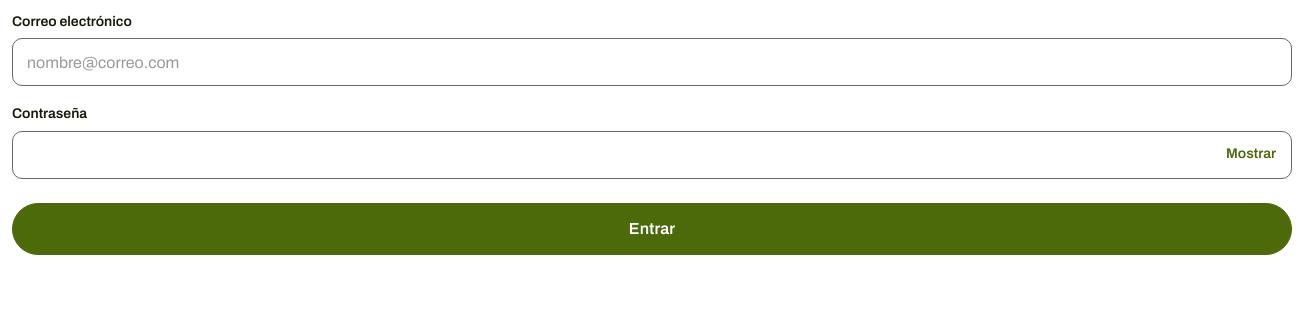
Scenario: LoginForm: errors are announced every time › shows the message its action returns
The image size is (1304, 336).
Type "ana@example.test" into the field labelled "Correo electrónico" at (652, 62), box x1=12 y1=38 x2=1292 y2=86
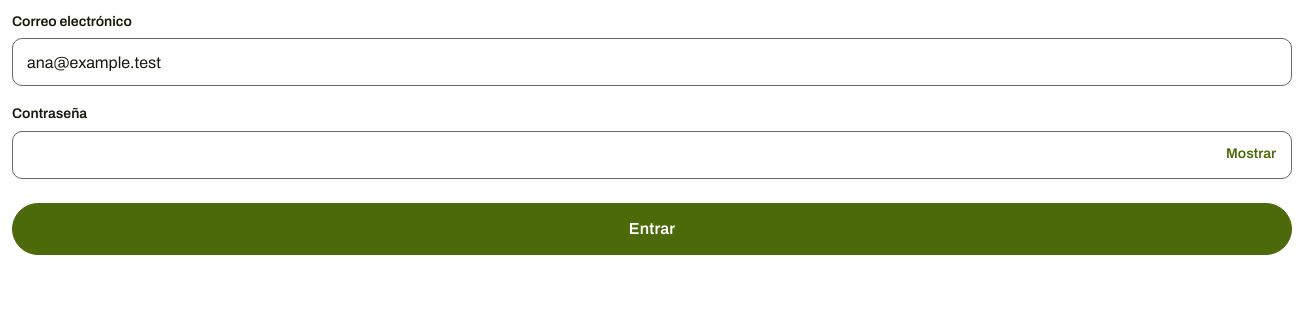
Type "a-long-enough-pass" into the password field labelled "Contraseña" at (652, 155), box x1=12 y1=131 x2=1292 y2=179
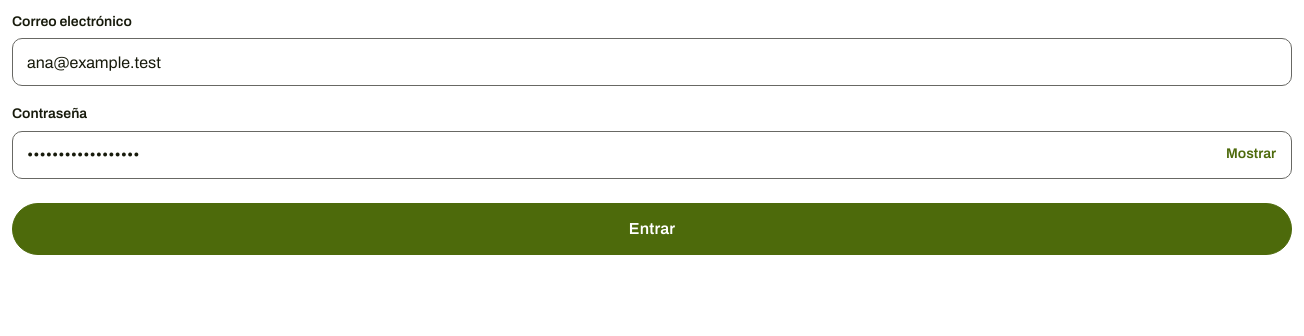
Click the button "Entrar" at (652, 229), box x1=12 y1=203 x2=1292 y2=255
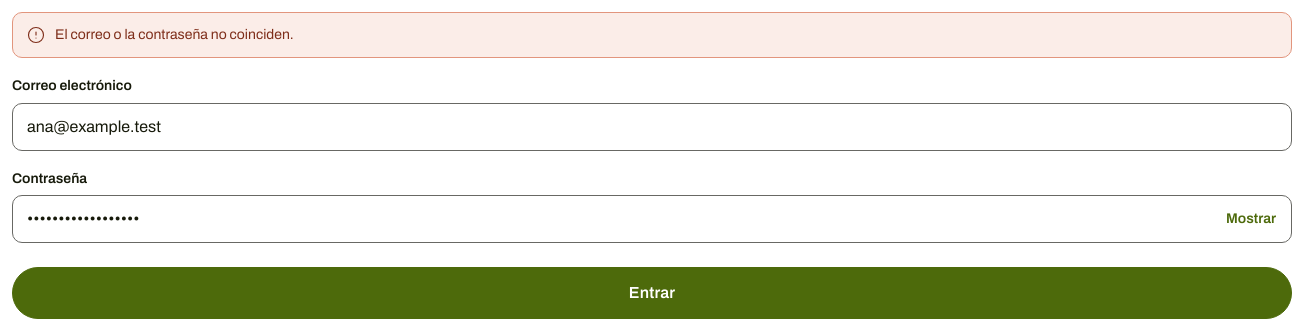
Result: the message reads "El correo o la contraseña no coinciden." at x1=55 y1=27 x2=294 y2=42
